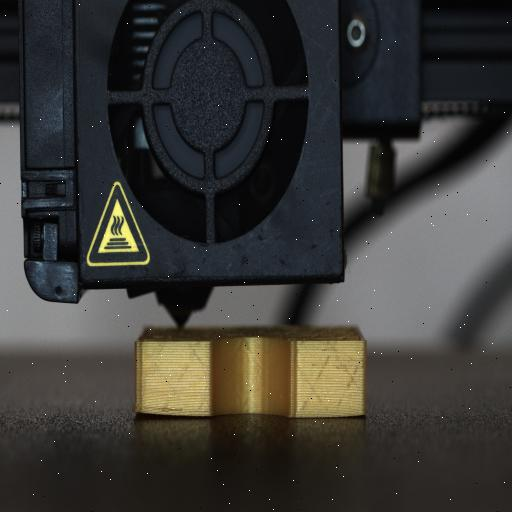warp: (132, 400, 164, 420)
